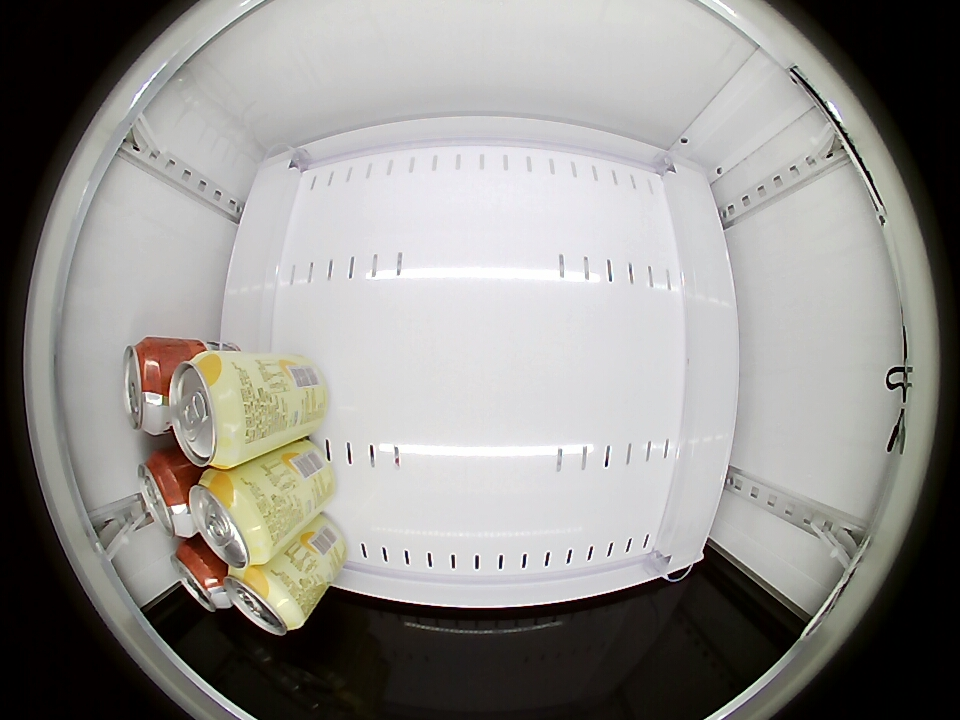jianlibao: (124, 337, 174, 436), (137, 455, 195, 539), (172, 542, 228, 612)
mangguoxiaolao: (169, 348, 248, 470), (190, 470, 273, 569), (225, 567, 303, 635)
